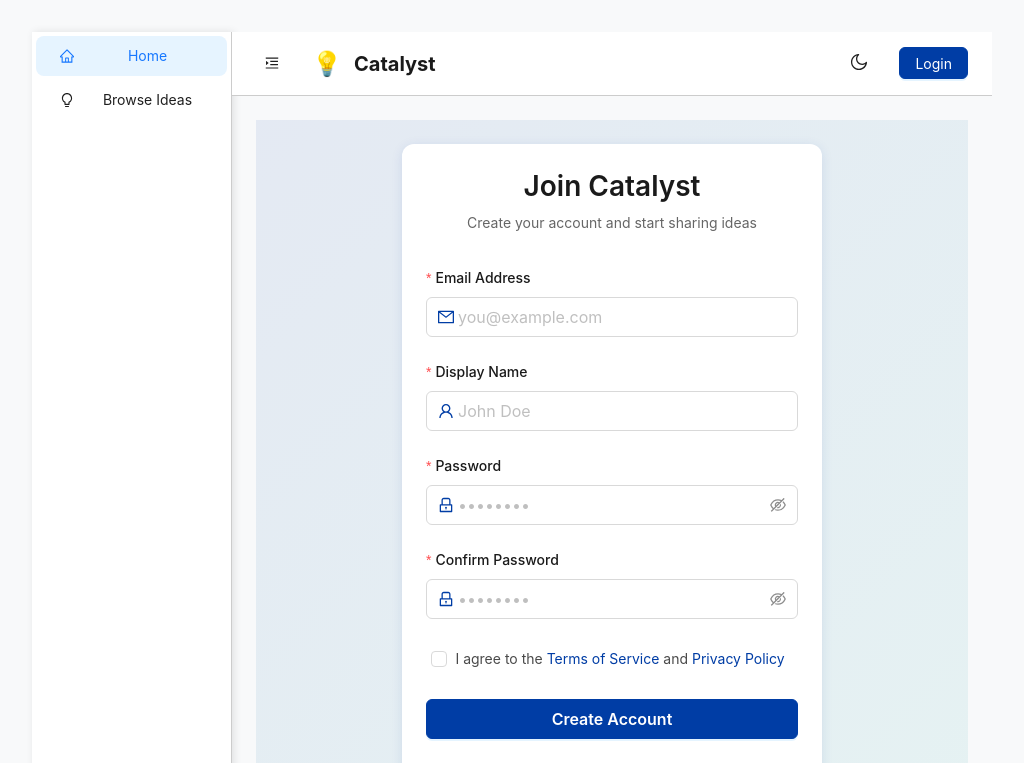
it: RegisterPage Component › uses a fallback error message when register rejects with a non-error value
The image size is (1024, 763).
In the field with test id "register-email-input": (622, 317) x1=458 y1=305 x2=786 y2=329, type "test@example.com"
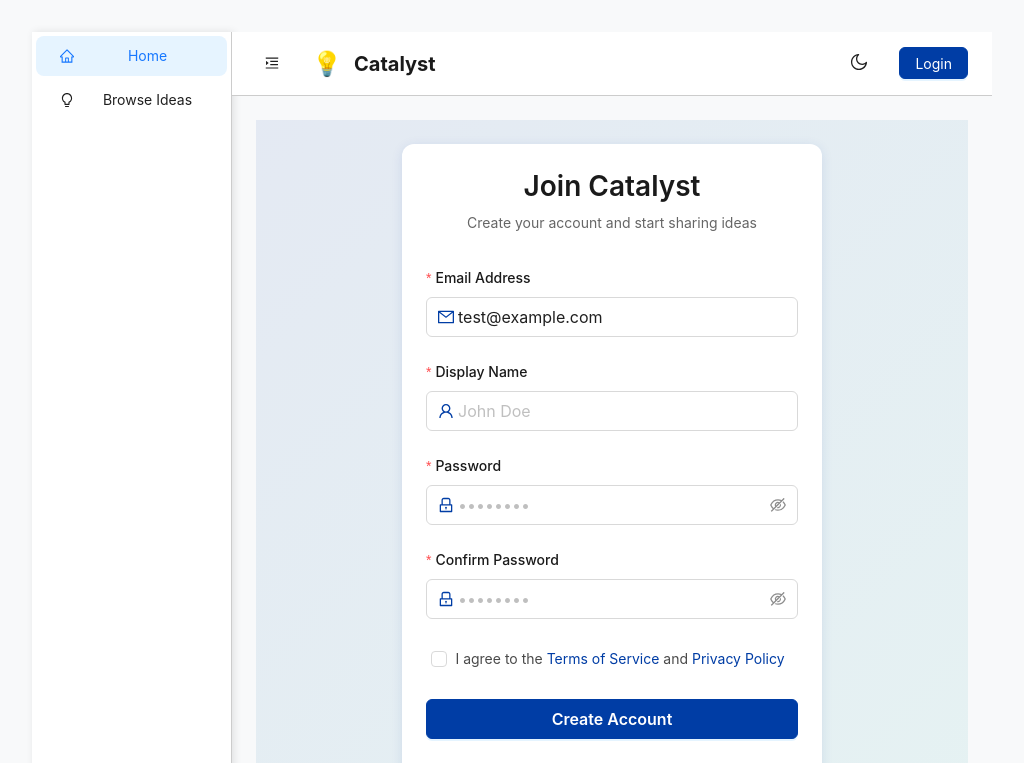
In the field with test id "register-displayname-input": (622, 411) x1=458 y1=399 x2=786 y2=423, type "Test User"
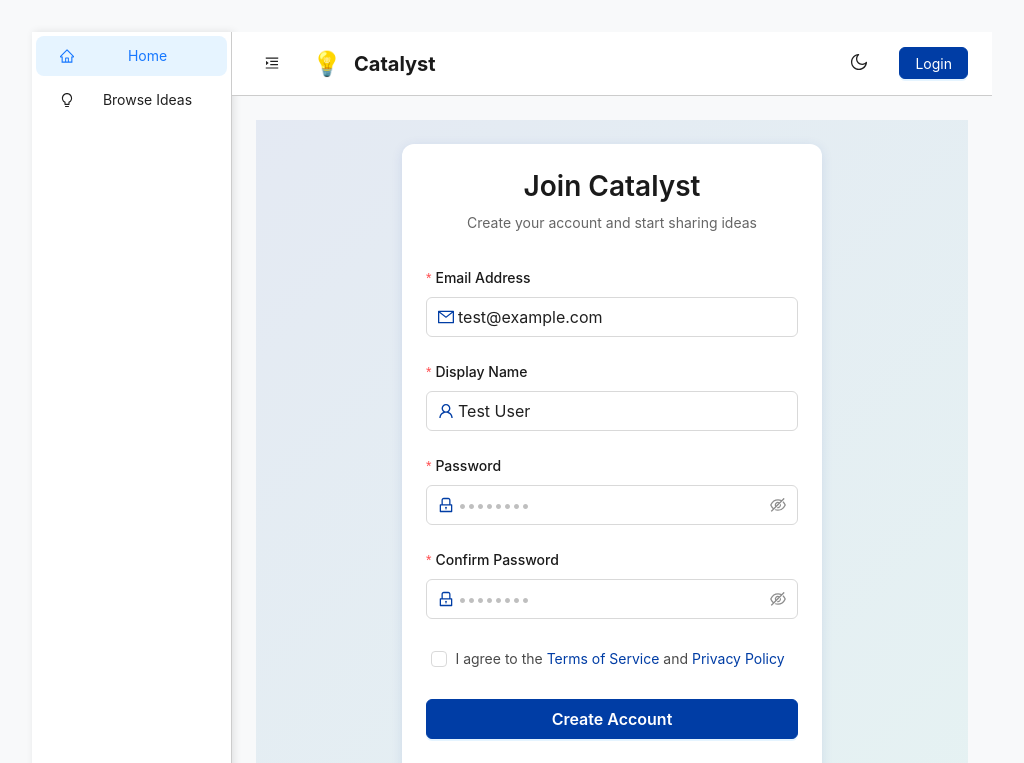
In the password field with test id "register-password-input": (612, 505) x1=458 y1=493 x2=766 y2=517, type "Password123!"
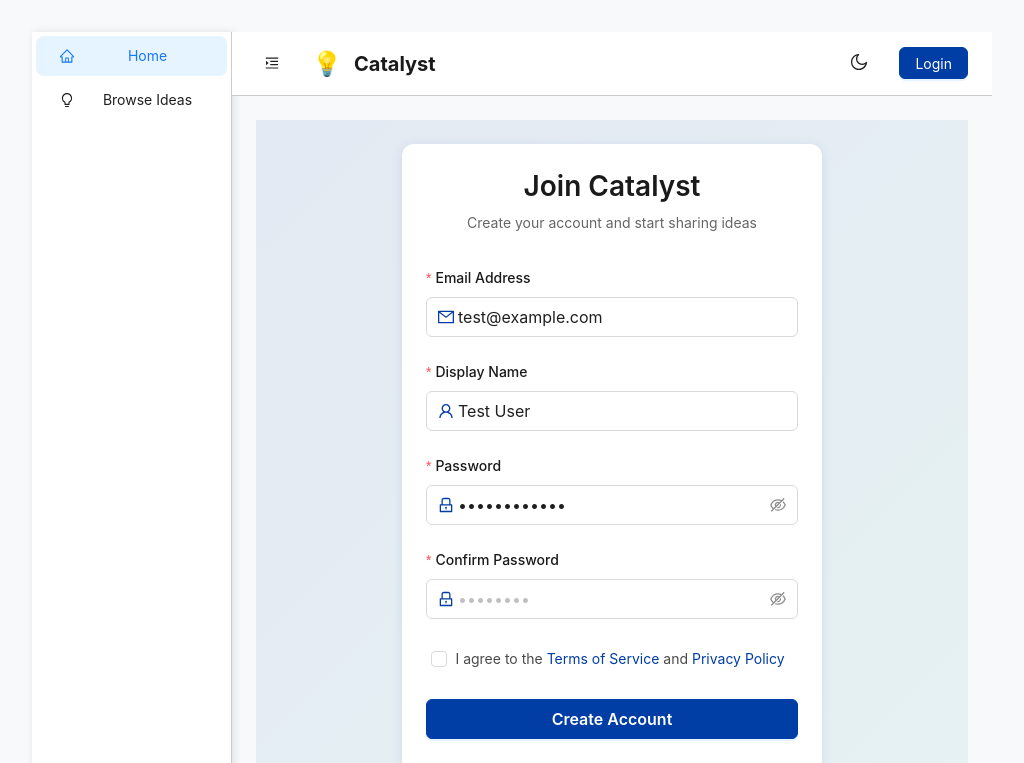
In the password field with test id "register-confirm-password-input": (612, 599) x1=458 y1=587 x2=766 y2=611, type "Password123!"
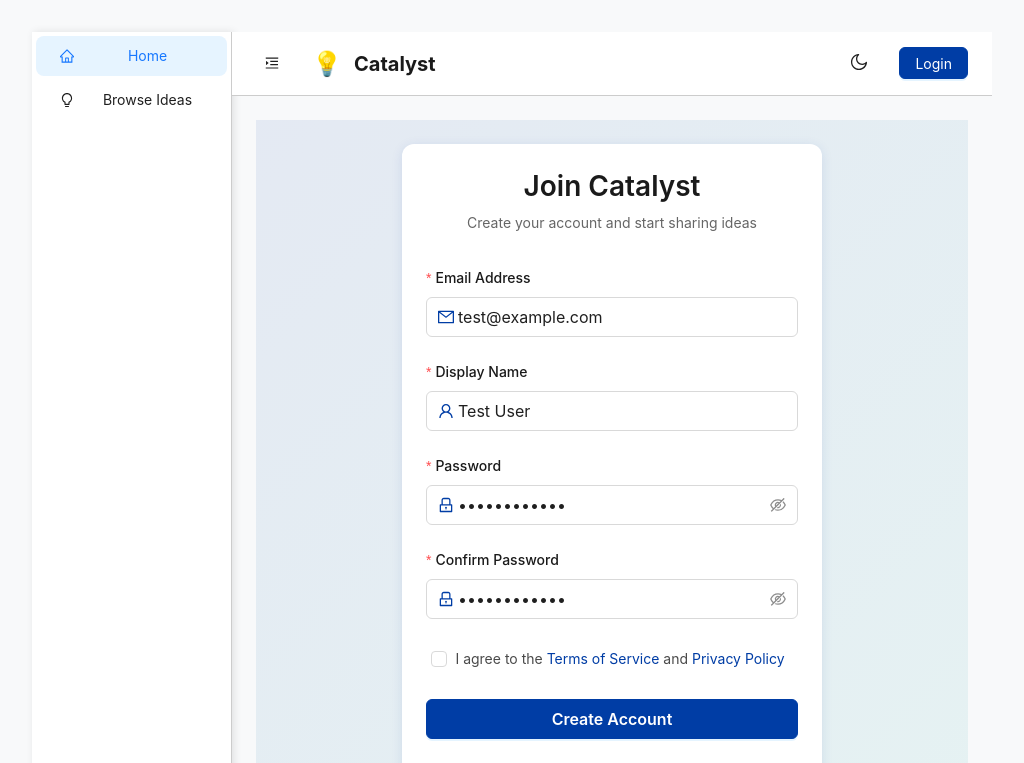
Click the checkbox: click(612, 659) x1=431 y1=648 x2=792 y2=670
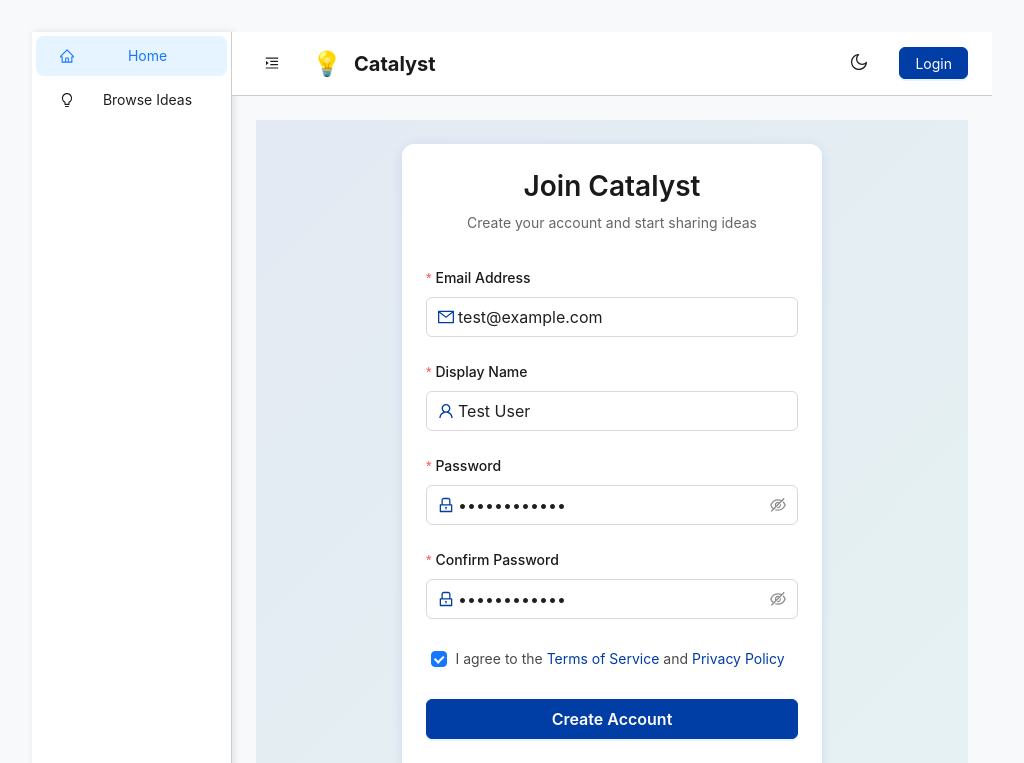
Click the button with test id "register-submit": click(612, 719) x1=426 y1=699 x2=798 y2=739
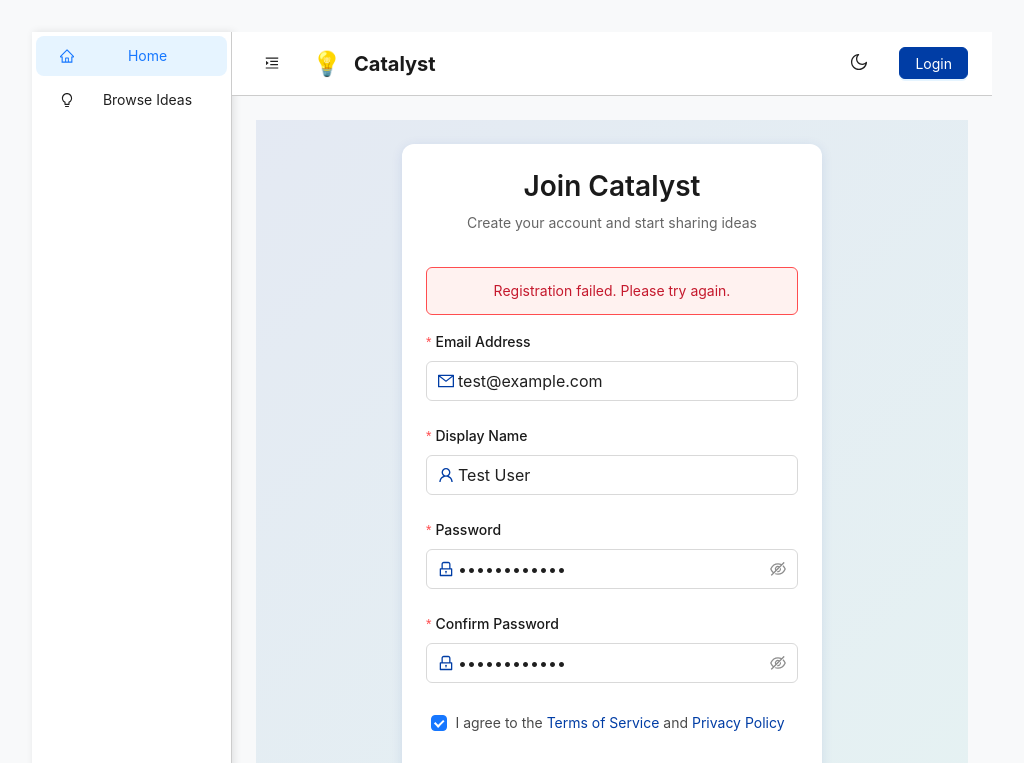
Expected: the text "Registration failed. Please try again." is shown, x1=426 y1=267 x2=798 y2=315
